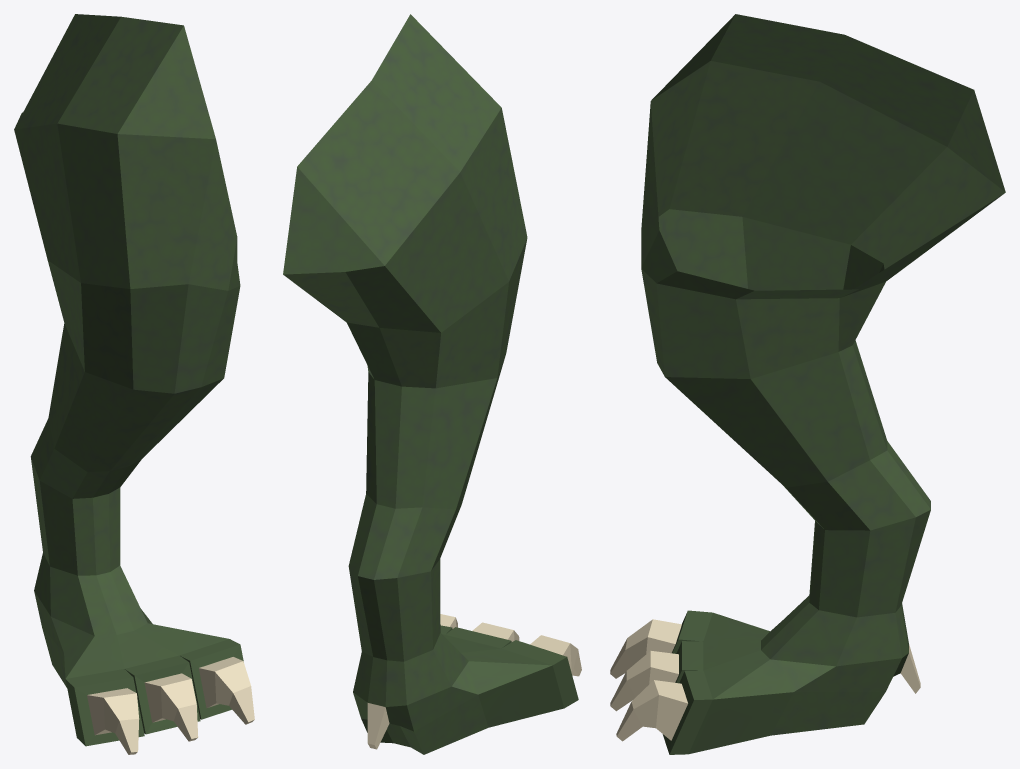
The model's file is T_RexPiernaD.obj.
3 renders of one model, left to right at view 1: azimuth 30°, elevation 25°; view 2: azimuth 150°, elevation 25°; view 3: azimuth 270°, elevation 25°, orthographic. The views are drawn at different scales.
Visible parts, largest first — view 1: T_Rex:Mesh; view 2: T_Rex:Mesh; view 3: T_Rex:Mesh.
Part boxes in pixels (left/top/right/bottom): T_Rex:Mesh: left=14, top=14, right=254, bottom=754; T_Rex:Mesh: left=283, top=14, right=581, bottom=754; T_Rex:Mesh: left=610, top=14, right=1005, bottom=754.
Size of the model in its own units: 1.44 by 5.42 by 2.7.
Materials: 1 (1 with a texture image).
